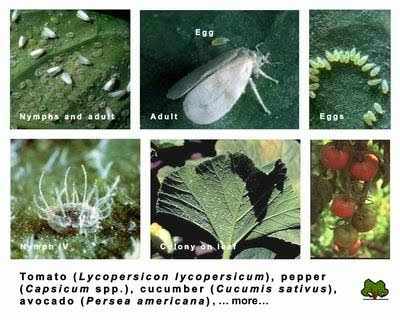whitefly: (167, 44, 278, 126), (73, 9, 94, 24), (102, 77, 117, 93), (45, 65, 62, 78), (30, 47, 46, 60), (75, 54, 92, 66), (60, 73, 74, 87), (42, 27, 58, 39), (18, 35, 28, 50)
